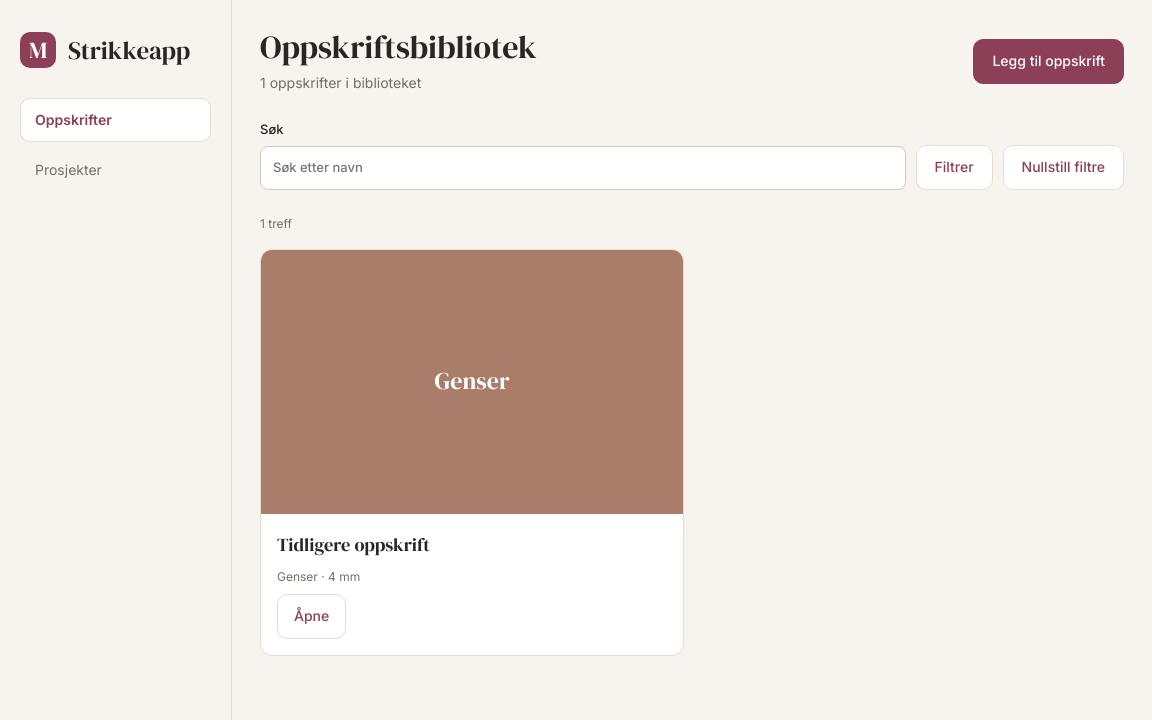
recipe saving › keeps input and existing recipes if localStorage saving fails
Click the button "Legg til oppskrift" at [1049, 61], box [974, 39, 1124, 84]
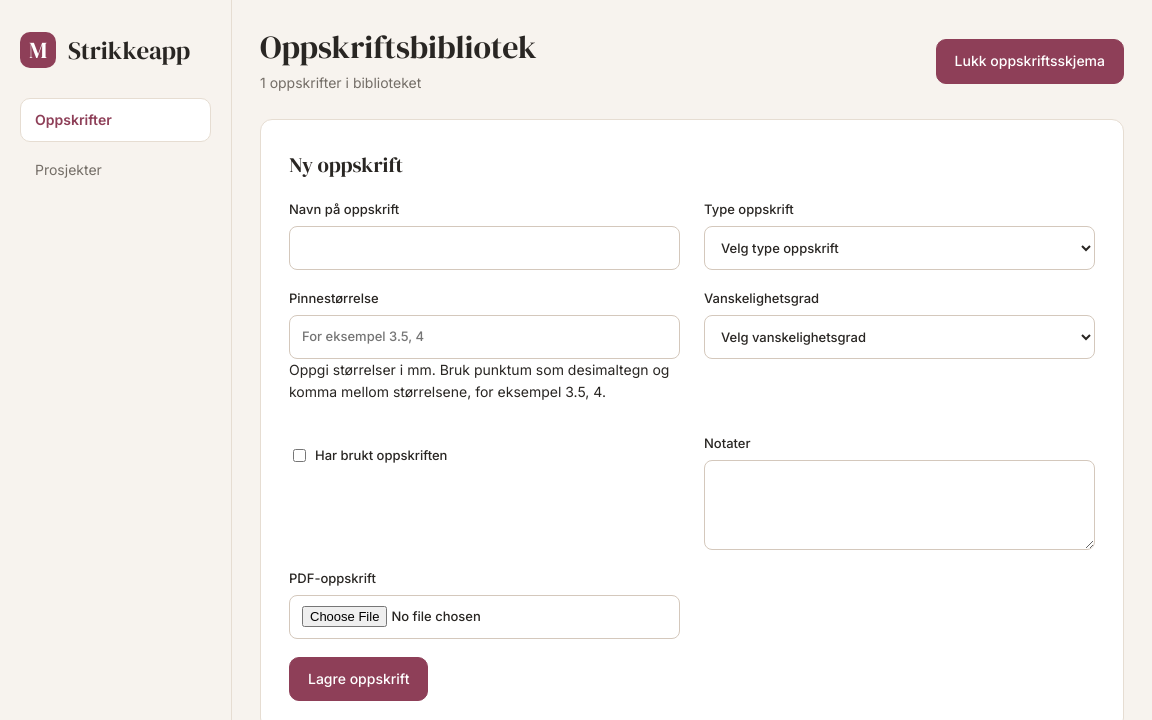
Type "Vintergenser" into the field labelled "Navn på oppskrift" at [484, 248], box [289, 226, 680, 270]
Select "Genser" in the dropdown labelled "Type oppskrift" at [900, 248], box [704, 226, 1095, 270]
Type "4" into the field labelled "Pinnestørrelse" at [484, 337], box [289, 315, 680, 359]
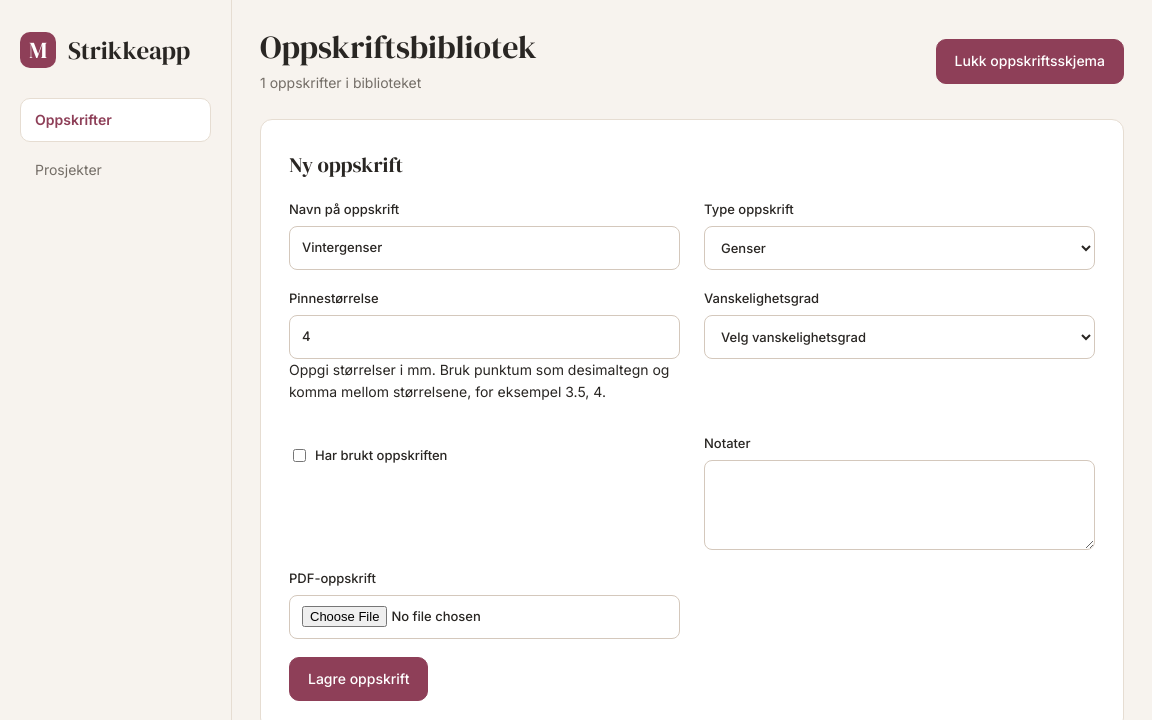
Select "Enkel" in the dropdown labelled "Vanskelighetsgrad" at [900, 337], box [704, 315, 1095, 359]
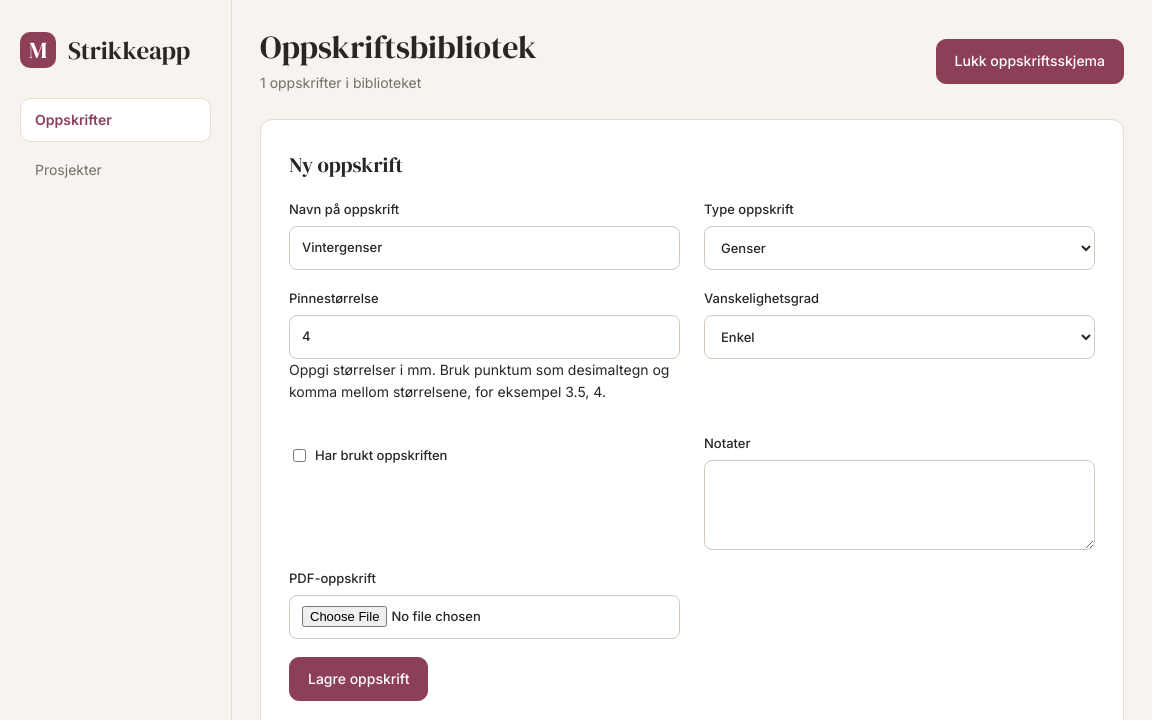
Click the checkbox labelled "Har brukt oppskriften" at [300, 455], box [293, 449, 306, 462]
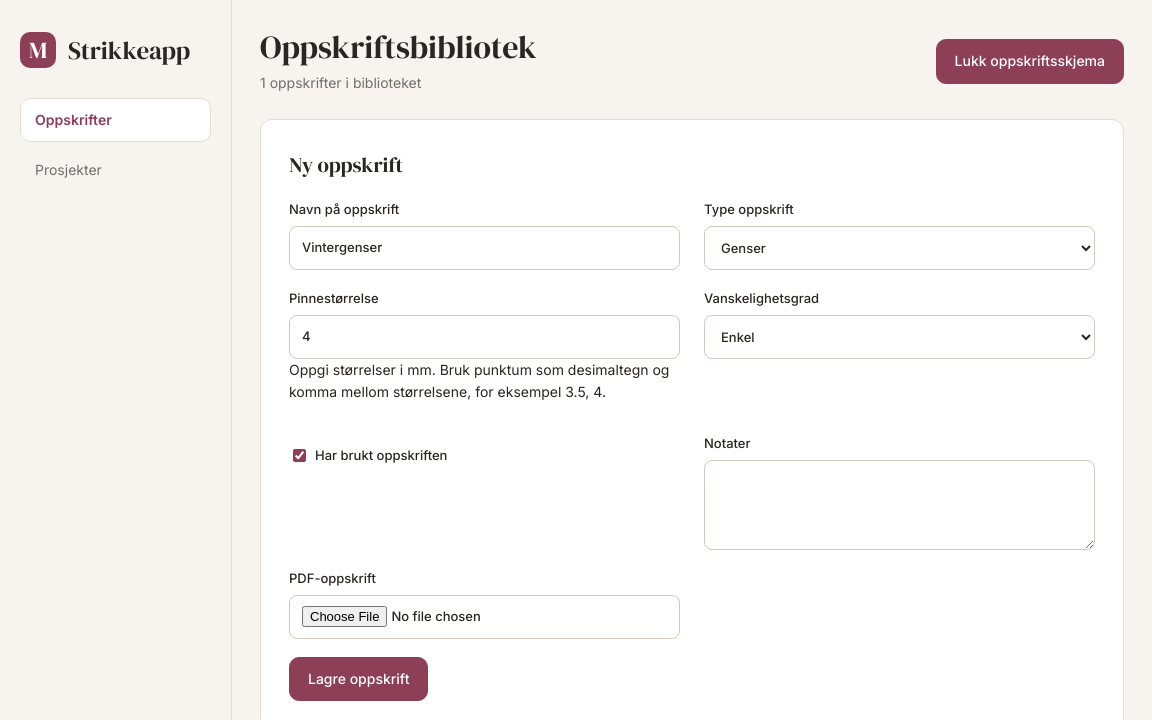
Type "Strikkes i ull." into the text box labelled "Notater" at [900, 505], box [704, 460, 1095, 550]
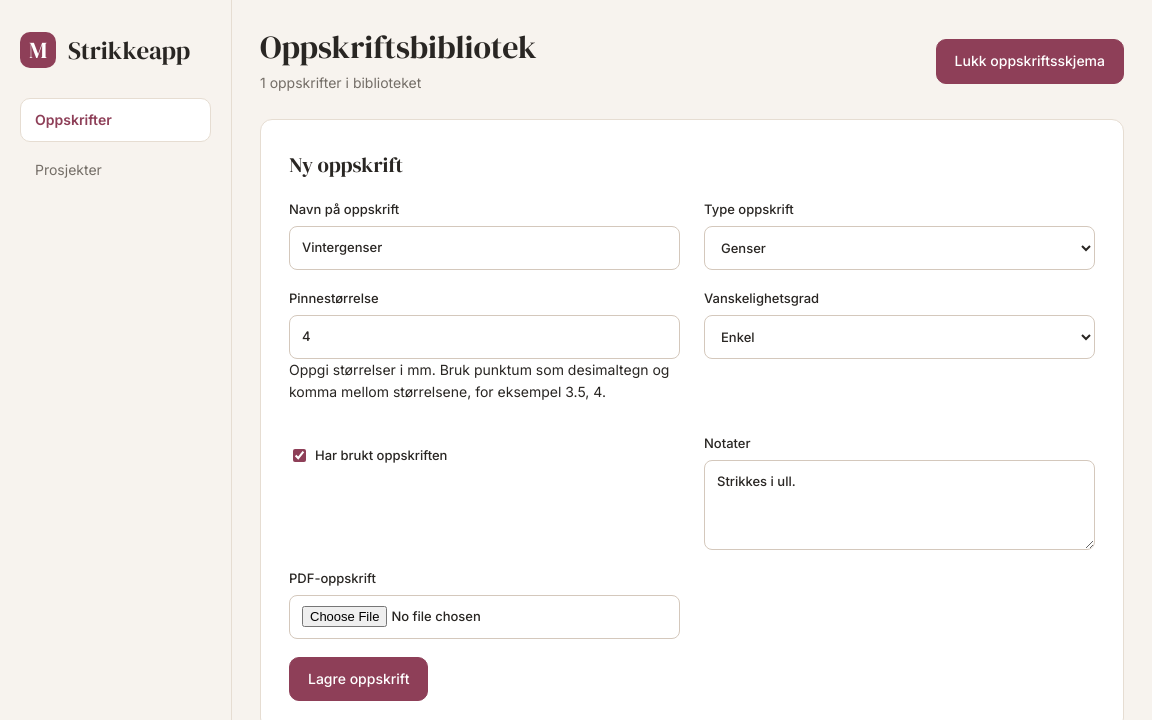
Click the button "Lagre oppskrift" at [359, 679], box [289, 657, 428, 701]
(page scrolled)
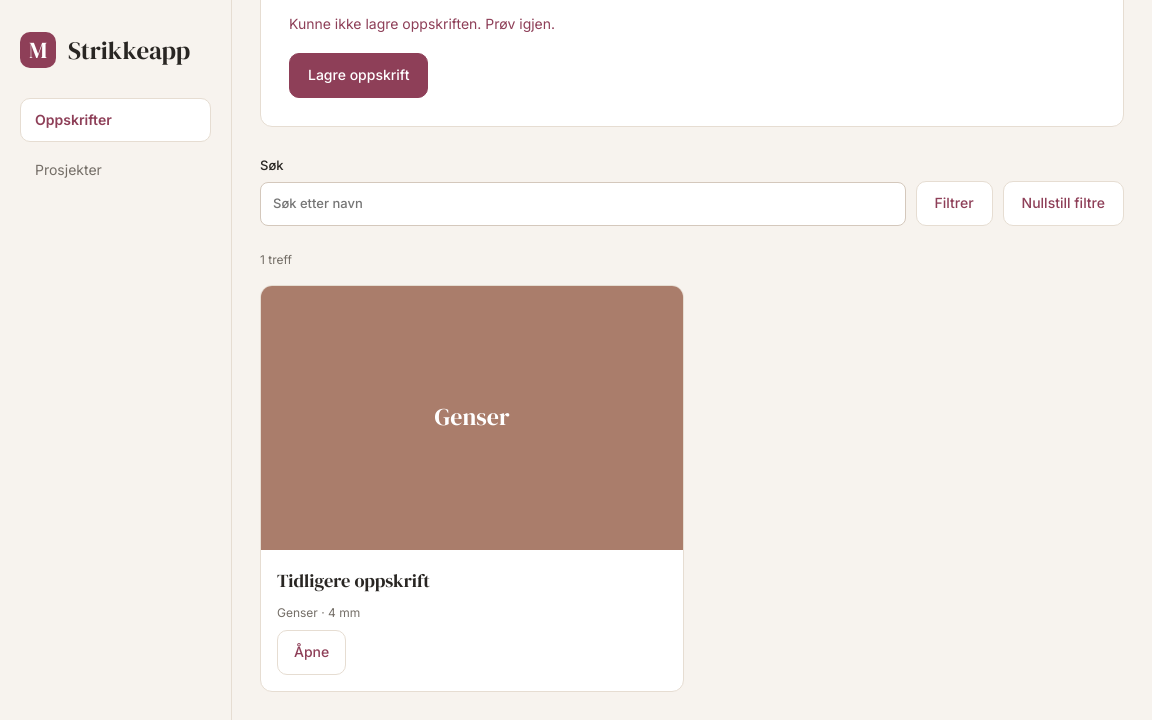
Expected: the heading "Vintergenser" is not shown
Result: the message shows "Kunne ikke lagre oppskriften." at [289, 15, 555, 32]
